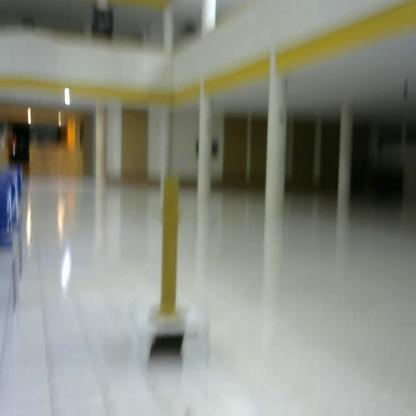pole: (142, 169, 201, 335)
